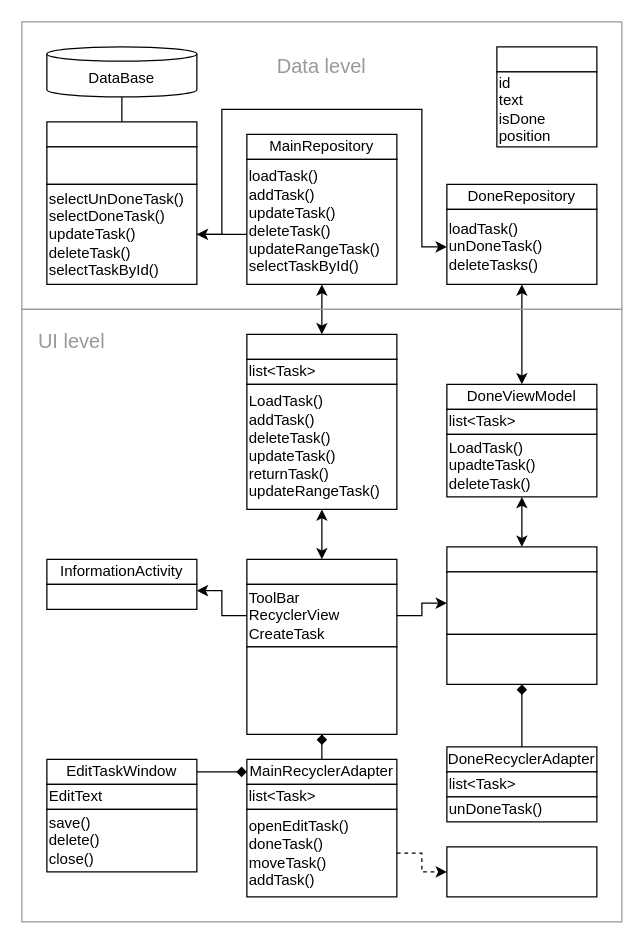
Some shapes in this 644 by 944 pixel diagram are drawn without their labels. Here are the shapes that lost their labels. From the top down, the centre of each, then its label:
At pixel 546 59: "Task".
At pixel 121 134: "RoomDatabase".
At pixel 121 165: "Entity Duo".
At pixel 321 346: "MainViewModel".
At pixel 321 571: "MainActivity".
At pixel 521 559: "DoneActivity".
At pixel 121 596: "Information".
At pixel 521 602: "ToolBar RecyclerView DeleteBtn".
At pixel 521 658: "onCreate() deleteTask()".
At pixel 321 690: "onCreate() setToolBar() setCreateTask() returnTask()".
At pixel 521 871: "ItemTouch HelperCallback".
